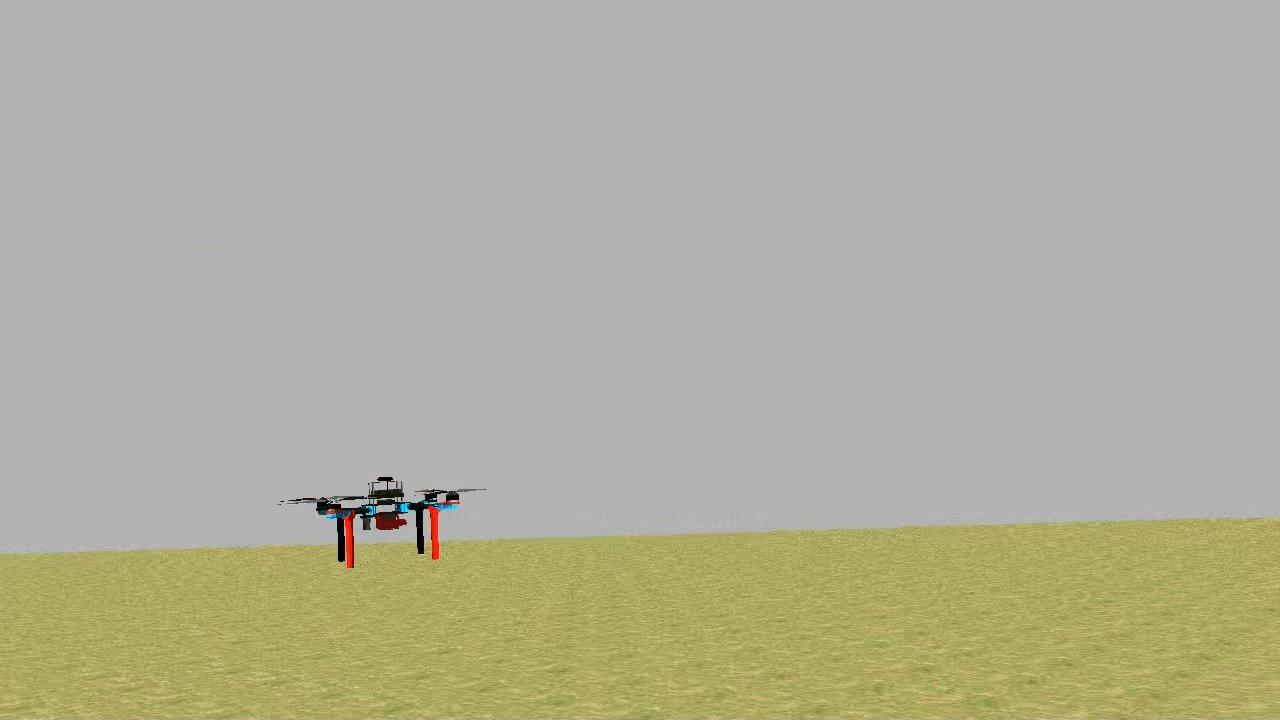UAV: (306, 466, 466, 571)
